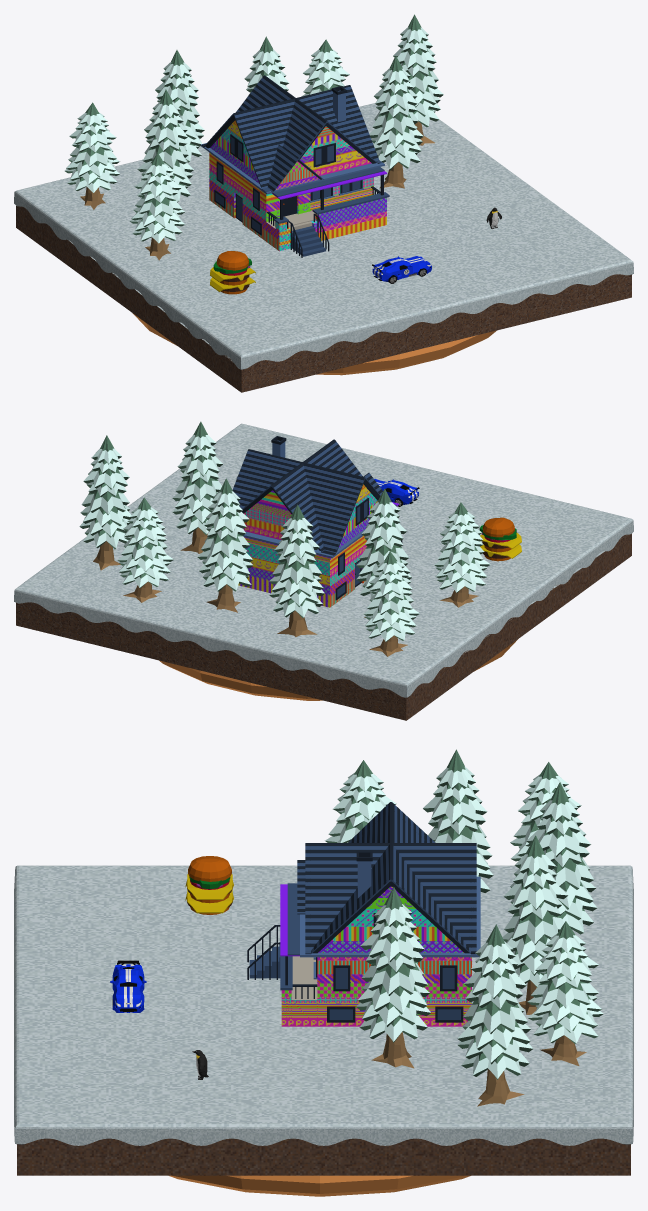
3 renders of one model, top to bottom at view 1: azimuth 30°, elevation 25°; view 2: azimuth 150°, elevation 25°; view 3: azimuth 270°, elevation 25°, orthographic. The views are drawn at different scales.
Parts seen in each view (by area): view 1: Cube.003, Cube.676, UNDERGROUND_PIZZA, OBJRANDOM_HAMBURGER, VEHICLES_RACING_CAR; view 2: Cube.003, Cube.676, UNDERGROUND_PIZZA, OBJRANDOM_HAMBURGER, VEHICLES_RACING_CAR; view 3: Cube.003, Cube.676, UNDERGROUND_PIZZA, OBJRANDOM_HAMBURGER, VEHICLES_RACING_CAR.
Part boxes in pixels (box(x1,y1,x2,y2)): Cube.003: box(14, 14, 633, 392); Cube.676: box(200, 75, 389, 257); UNDERGROUND_PIZZA: box(132, 313, 496, 375); OBJRANDOM_HAMBURGER: box(210, 251, 255, 294); VEHICLES_RACING_CAR: box(372, 256, 431, 283); Cube.003: box(14, 421, 633, 720); Cube.676: box(232, 436, 402, 607); UNDERGROUND_PIZZA: box(159, 639, 517, 700); OBJRANDOM_HAMBURGER: box(479, 517, 521, 561); VEHICLES_RACING_CAR: box(374, 479, 419, 506); Cube.003: box(14, 749, 633, 1175); Cube.676: box(247, 802, 480, 1026); UNDERGROUND_PIZZA: box(169, 1175, 470, 1196); OBJRANDOM_HAMBURGER: box(185, 856, 233, 914); VEHICLES_RACING_CAR: box(110, 960, 146, 1012).
Bounding box in the file's own units: 4040 × 1904 × 4040.
41 materials, 7 textured.
